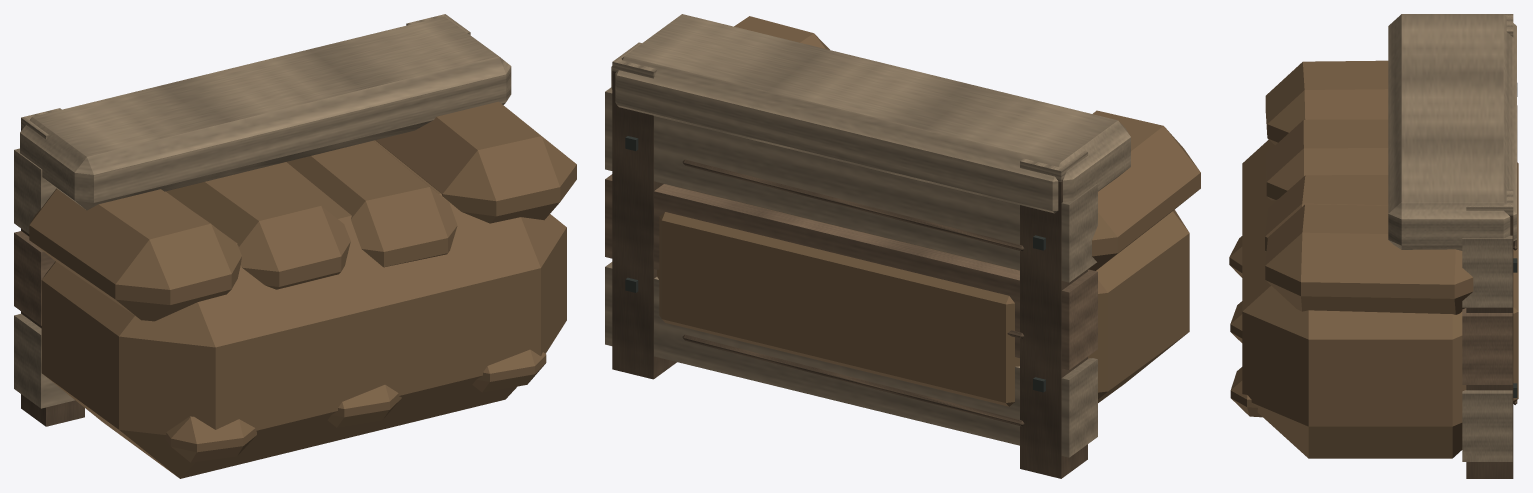
The model's file is trench_revetment.glb.
3 renders of one model, left to right at view 1: azimuth 30°, elevation 25°; view 2: azimuth 150°, elevation 25°; view 3: azimuth 270°, elevation 25°, orthographic. The views are drawn at different scales.
Visible parts, largest first — view 1: trench_revetment__Earth_revetment, trench_revetment__Timber_worn_edges, trench_revetment__Weathered_timber, trench_revetment__Dark_endgrain; view 2: trench_revetment__Timber_worn_edges, trench_revetment__Earth_revetment, trench_revetment__Dark_endgrain, trench_revetment__Weathered_timber, trench_revetment__Oxidized_dark_steel; view 3: trench_revetment__Earth_revetment, trench_revetment__Timber_worn_edges, trench_revetment__Weathered_timber, trench_revetment__Dark_endgrain.
Part boxes in pixels (box(x1,y1,x2,y2)): trench_revetment__Earth_revetment: box(29, 101, 576, 478); trench_revetment__Timber_worn_edges: box(14, 14, 511, 408); trench_revetment__Weathered_timber: box(14, 231, 55, 325); trench_revetment__Dark_endgrain: box(21, 128, 84, 426); trench_revetment__Timber_worn_edges: box(605, 14, 1130, 457); trench_revetment__Earth_revetment: box(657, 16, 1200, 406); trench_revetment__Dark_endgrain: box(612, 71, 1087, 478); trench_revetment__Weathered_timber: box(605, 174, 1097, 369); trench_revetment__Oxidized_dark_steel: box(625, 136, 1045, 392); trench_revetment__Earth_revetment: box(1229, 60, 1518, 458); trench_revetment__Timber_worn_edges: box(1388, 14, 1516, 461); trench_revetment__Weathered_timber: box(1462, 308, 1512, 384); trench_revetment__Dark_endgrain: box(1466, 105, 1517, 478).
Size of the model in its own units: 0.4221 by 0.254 by 0.2409.
5 materials, 3 textured.
